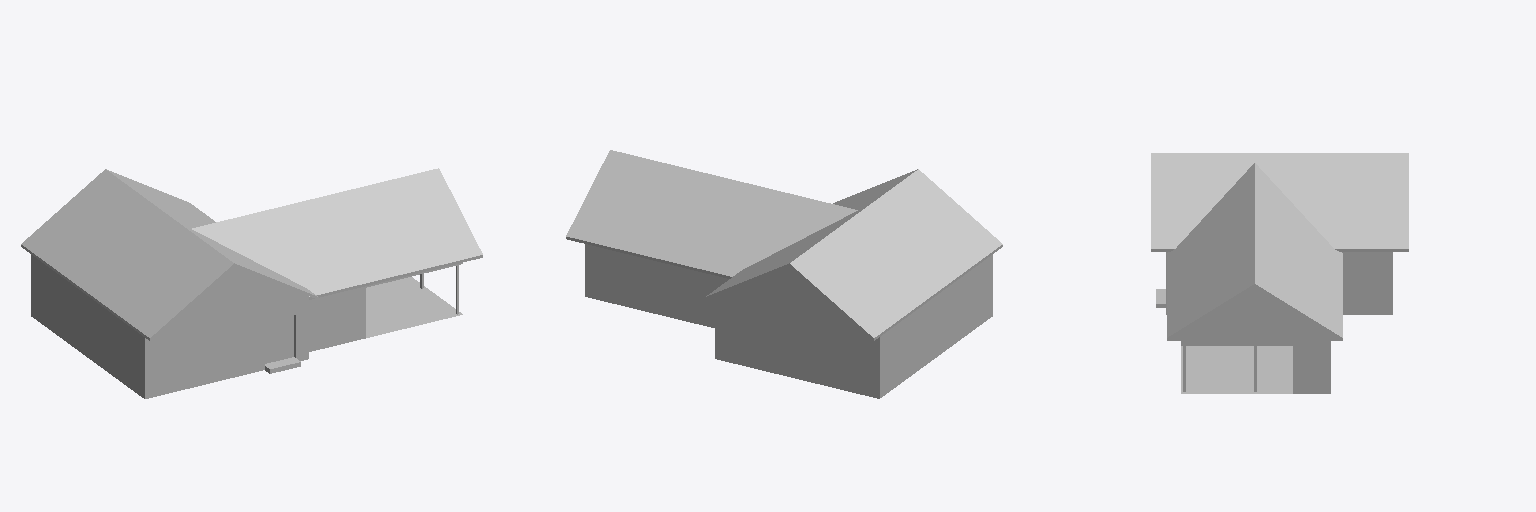
Rendered from GoodspringsHome02LOD.obj.
3 renders of one model, left to right at view 1: azimuth 30°, elevation 25°; view 2: azimuth 150°, elevation 25°; view 3: azimuth 270°, elevation 25°, orthographic.
Parts seen in each view (by area): view 1: collision; view 2: collision; view 3: collision.
Part boxes in pixels (left/top/right/bottom): collision: left=21, top=168, right=482, bottom=398; collision: left=566, top=150, right=1002, bottom=398; collision: left=1151, top=153, right=1408, bottom=393.
Size of the model in its own units: 1345 by 458 by 881.